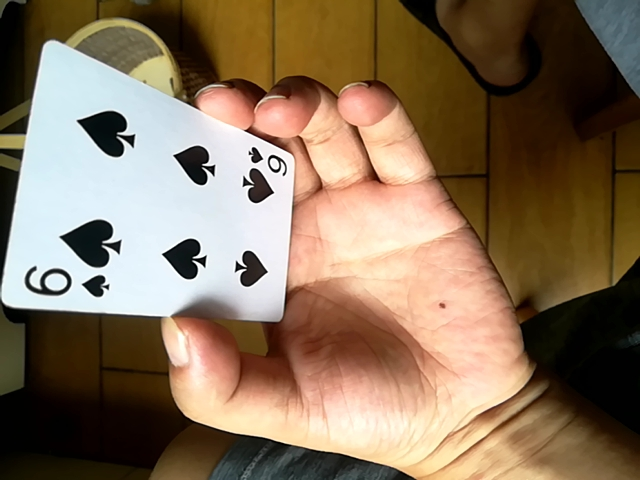ht 6: (3, 37, 300, 333)
